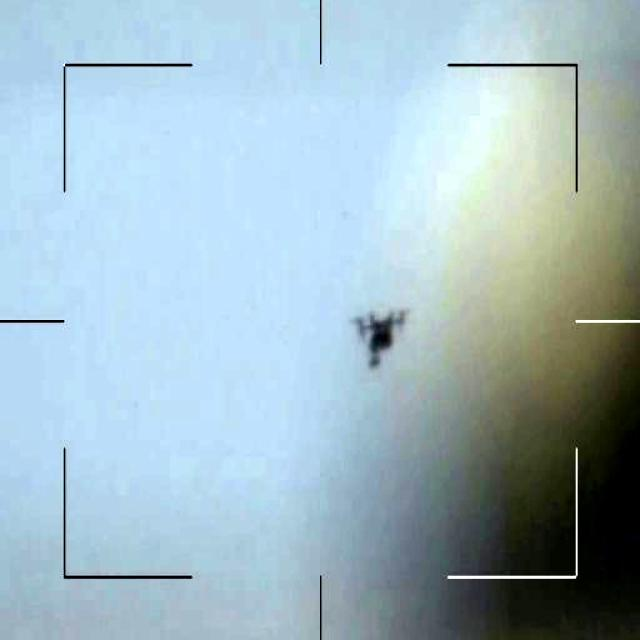bird: (340, 302, 406, 375)
